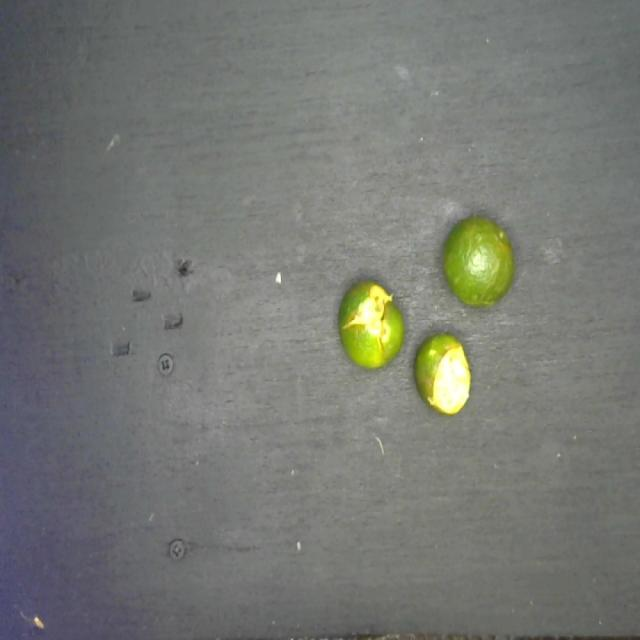biodegradable: (332, 212, 515, 433)
